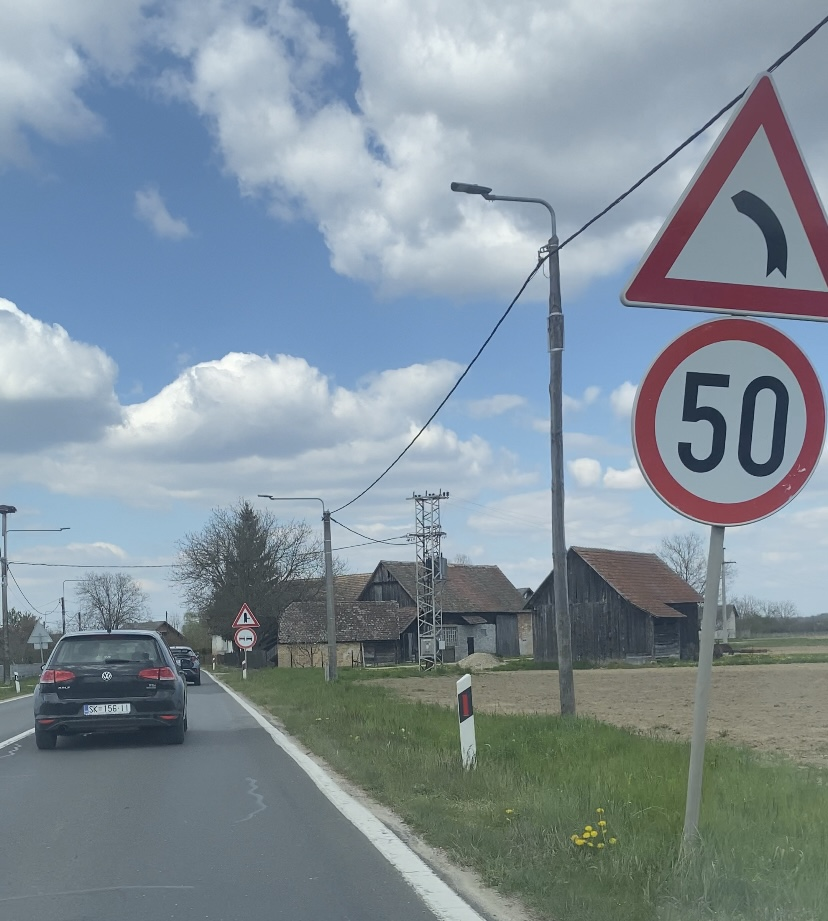Ograničenje brzine 50: (631, 316, 827, 525)
Zabrana pretjecanja: (234, 627, 257, 648)
